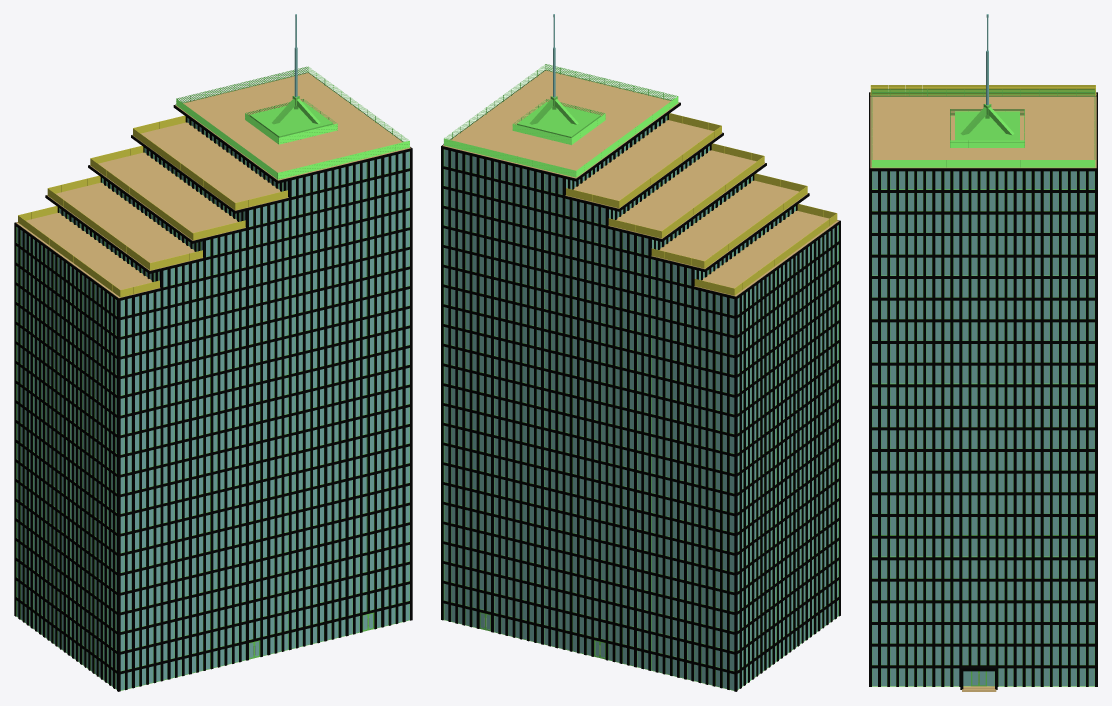
File: Building_5_1.FBX
The picture shows the model from 3 angles, left to right: view 1: azimuth 30°, elevation 25°; view 2: azimuth 150°, elevation 25°; view 3: azimuth 270°, elevation 25°; orthographic projection. The views are drawn at different scales.
Parts seen in each view (by area): view 1: B5-mod-1_LOD0; view 2: B5-mod-1_LOD0; view 3: B5-mod-1_LOD0.
Boxes of the visible parts, left/top/right/bottom form: B5-mod-1_LOD0: left=14, top=14, right=412, bottom=691; B5-mod-1_LOD0: left=441, top=14, right=840, bottom=691; B5-mod-1_LOD0: left=869, top=14, right=1097, bottom=691.
Size of what is drawn, in the model's own units: 5194 by 9520 by 3087.
